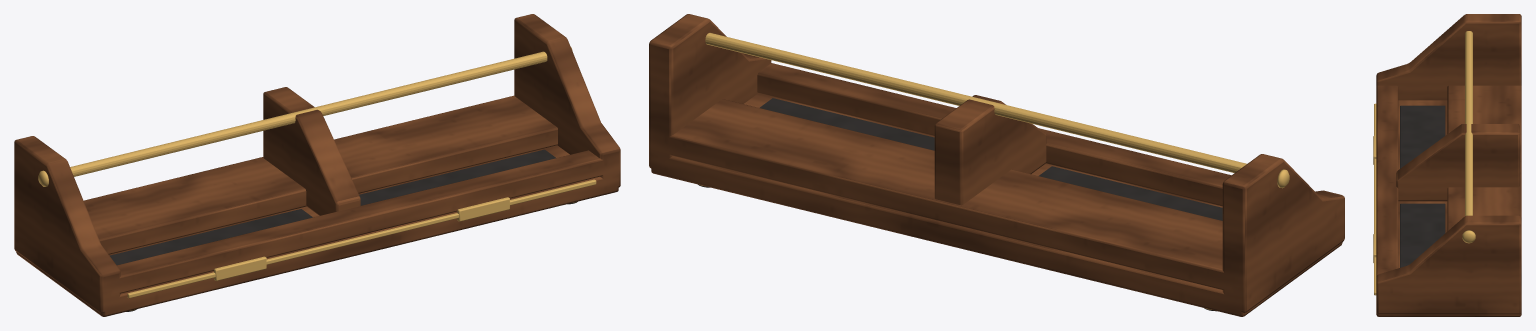
The model's file is cartridge-stand.glb.
3 renders of one model, left to right at view 1: azimuth 30°, elevation 25°; view 2: azimuth 150°, elevation 25°; view 3: azimuth 270°, elevation 25°, orthographic. The views are drawn at different scales.
Parts seen in each view (by area): view 1: Stand_RearDeck, Stand_FrontLip, Stand_Cheek_Left, Stand_Base_Lower, Stand_Cheek_Right, Stand_CenterDivider, Stand_BrassBackRail, Stand_SlotFelt_0, Stand_SlotFelt_1, Stand_FrontBrassTrim, Stand_SlotBadge_0, Stand_SlotBadge_1; view 2: Stand_RearDeck, Stand_Base_Lower, Stand_Cheek_Left, Stand_FrontLip, Stand_Cheek_Right, Stand_CenterDivider, Stand_BrassBackRail, Stand_SlotFelt_0, Stand_SlotFelt_1; view 3: Stand_Cheek_Right, Stand_Cheek_Left, Stand_CenterDivider, Stand_RearDeck, Stand_FrontLip, Stand_SlotFelt_1, Stand_SlotFelt_0, Stand_BrassBackRail, Stand_Base_Lower, Stand_FrontBrassTrim, Stand_CheekBolt_R.
Part boxes in pixels (x1,y1,x2,y2): Stand_RearDeck: [84, 95, 557, 254]; Stand_FrontLip: [104, 150, 618, 295]; Stand_Cheek_Left: [14, 136, 120, 313]; Stand_Base_Lower: [16, 145, 618, 316]; Stand_Cheek_Right: [514, 14, 620, 188]; Stand_CenterDivider: [263, 87, 360, 215]; Stand_BrassBackRail: [70, 51, 547, 176]; Stand_SlotFelt_0: [110, 209, 312, 265]; Stand_SlotFelt_1: [359, 149, 555, 205]; Stand_FrontBrassTrim: [127, 179, 596, 298]; Stand_SlotBadge_0: [214, 256, 266, 280]; Stand_SlotBadge_1: [457, 197, 509, 221]; Stand_RearDeck: [652, 99, 1241, 293]; Stand_Base_Lower: [651, 93, 1342, 316]; Stand_Cheek_Left: [1222, 154, 1344, 312]; Stand_FrontLip: [757, 63, 1231, 206]; Stand_Cheek_Right: [649, 14, 771, 170]; Stand_CenterDivider: [934, 95, 1046, 205]; Stand_BrassBackRail: [705, 33, 1246, 172]; Stand_SlotFelt_0: [1039, 166, 1222, 220]; Stand_SlotFelt_1: [759, 98, 934, 150]; Stand_Cheek_Right: [1376, 215, 1521, 314]; Stand_Cheek_Left: [1376, 14, 1521, 100]; Stand_CenterDivider: [1396, 124, 1519, 201]; Stand_RearDeck: [1447, 85, 1521, 231]; Stand_FrontLip: [1376, 85, 1398, 276]; Stand_SlotFelt_1: [1400, 203, 1445, 267]; Stand_SlotFelt_0: [1400, 105, 1445, 168]; Stand_BrassBackRail: [1465, 31, 1472, 215]; Stand_Base_Lower: [1376, 100, 1521, 316]; Stand_FrontBrassTrim: [1374, 103, 1376, 295]; Stand_CheekBolt_R: [1462, 230, 1475, 243].
Size of the model in its own units: 0.5572 by 0.124 by 0.1634.
3 materials, 3 textured.
